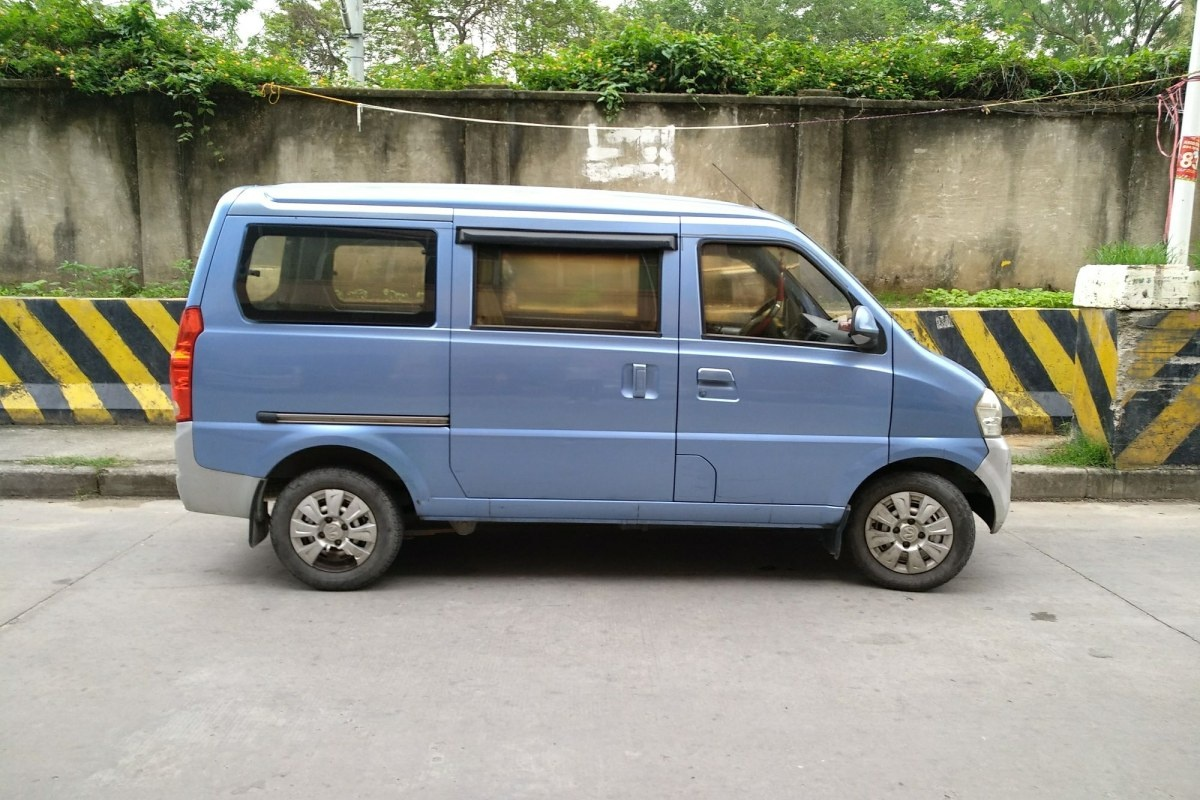minibus: (163, 177, 1021, 581)
